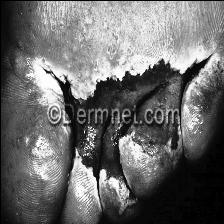Toxin: (37, 58, 220, 103), (68, 124, 174, 196)
